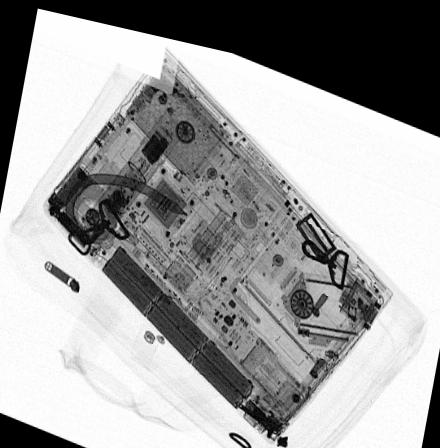Baton: (81, 103, 182, 240)
